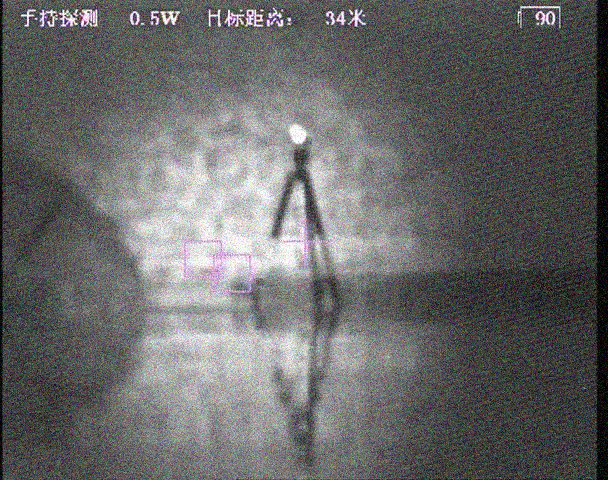my: (287, 121, 308, 145)
